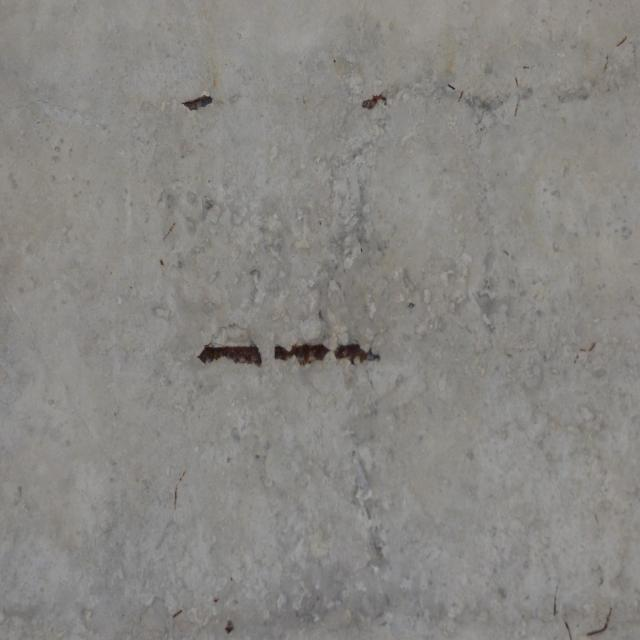corrosion: (185, 326, 393, 383), (174, 80, 226, 119), (358, 86, 390, 120)
